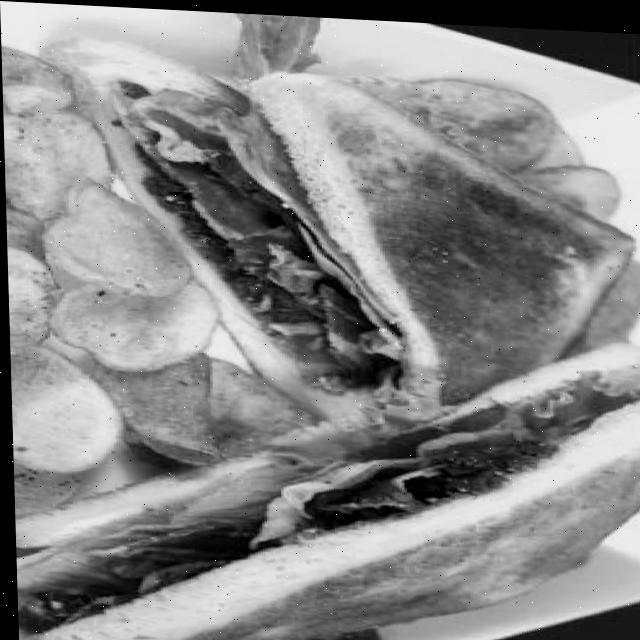三明治: (92, 29, 640, 640)
